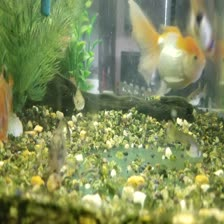Cuezo: (116, 0, 204, 100)
Guppy: (162, 124, 203, 158), (70, 77, 92, 115)
Kiros: (42, 120, 78, 178)
